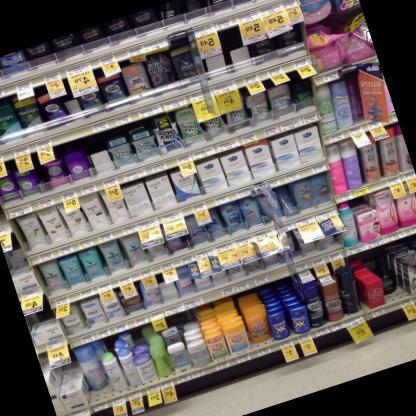empty_space: (81, 131, 114, 177), (216, 24, 250, 67)
